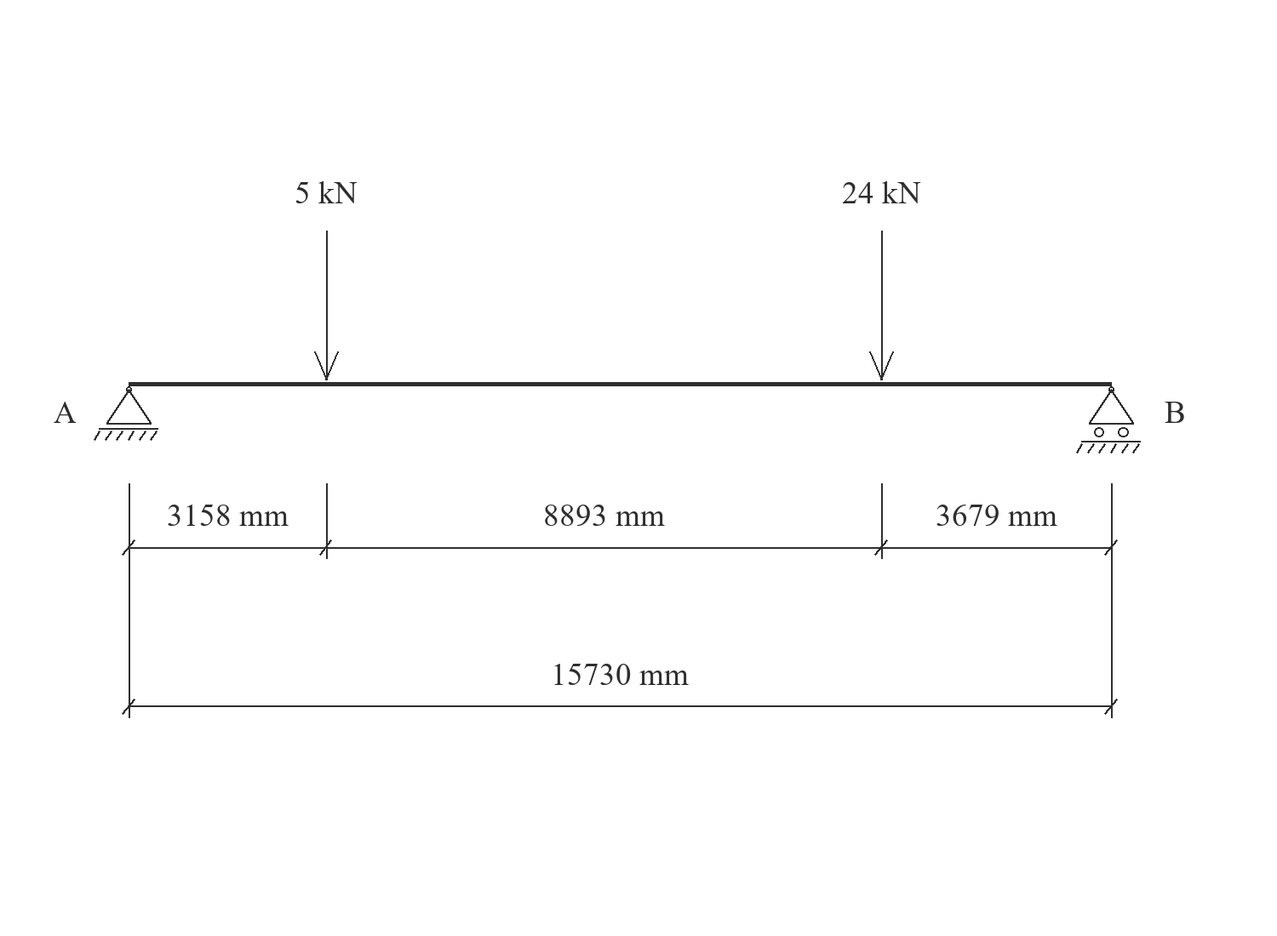pin_support: (94, 386, 158, 441)
point_load: (314, 231, 339, 380), (869, 231, 894, 380)
roller_support: (1076, 386, 1141, 454)
